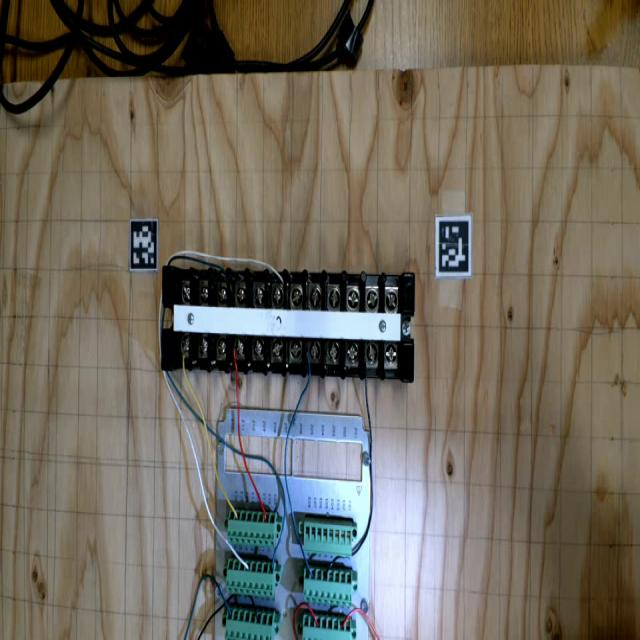Phillips_Block: (157, 261, 419, 382)
Terminal_2: (226, 508, 277, 548), (225, 558, 276, 597), (304, 567, 352, 607), (225, 607, 274, 640), (303, 613, 352, 640)
